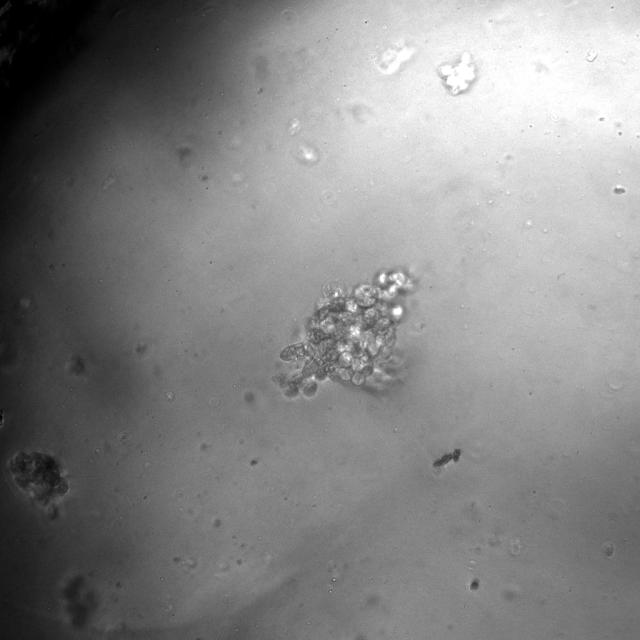organoid: (274, 270, 412, 397), (9, 450, 68, 504), (439, 52, 476, 95)
